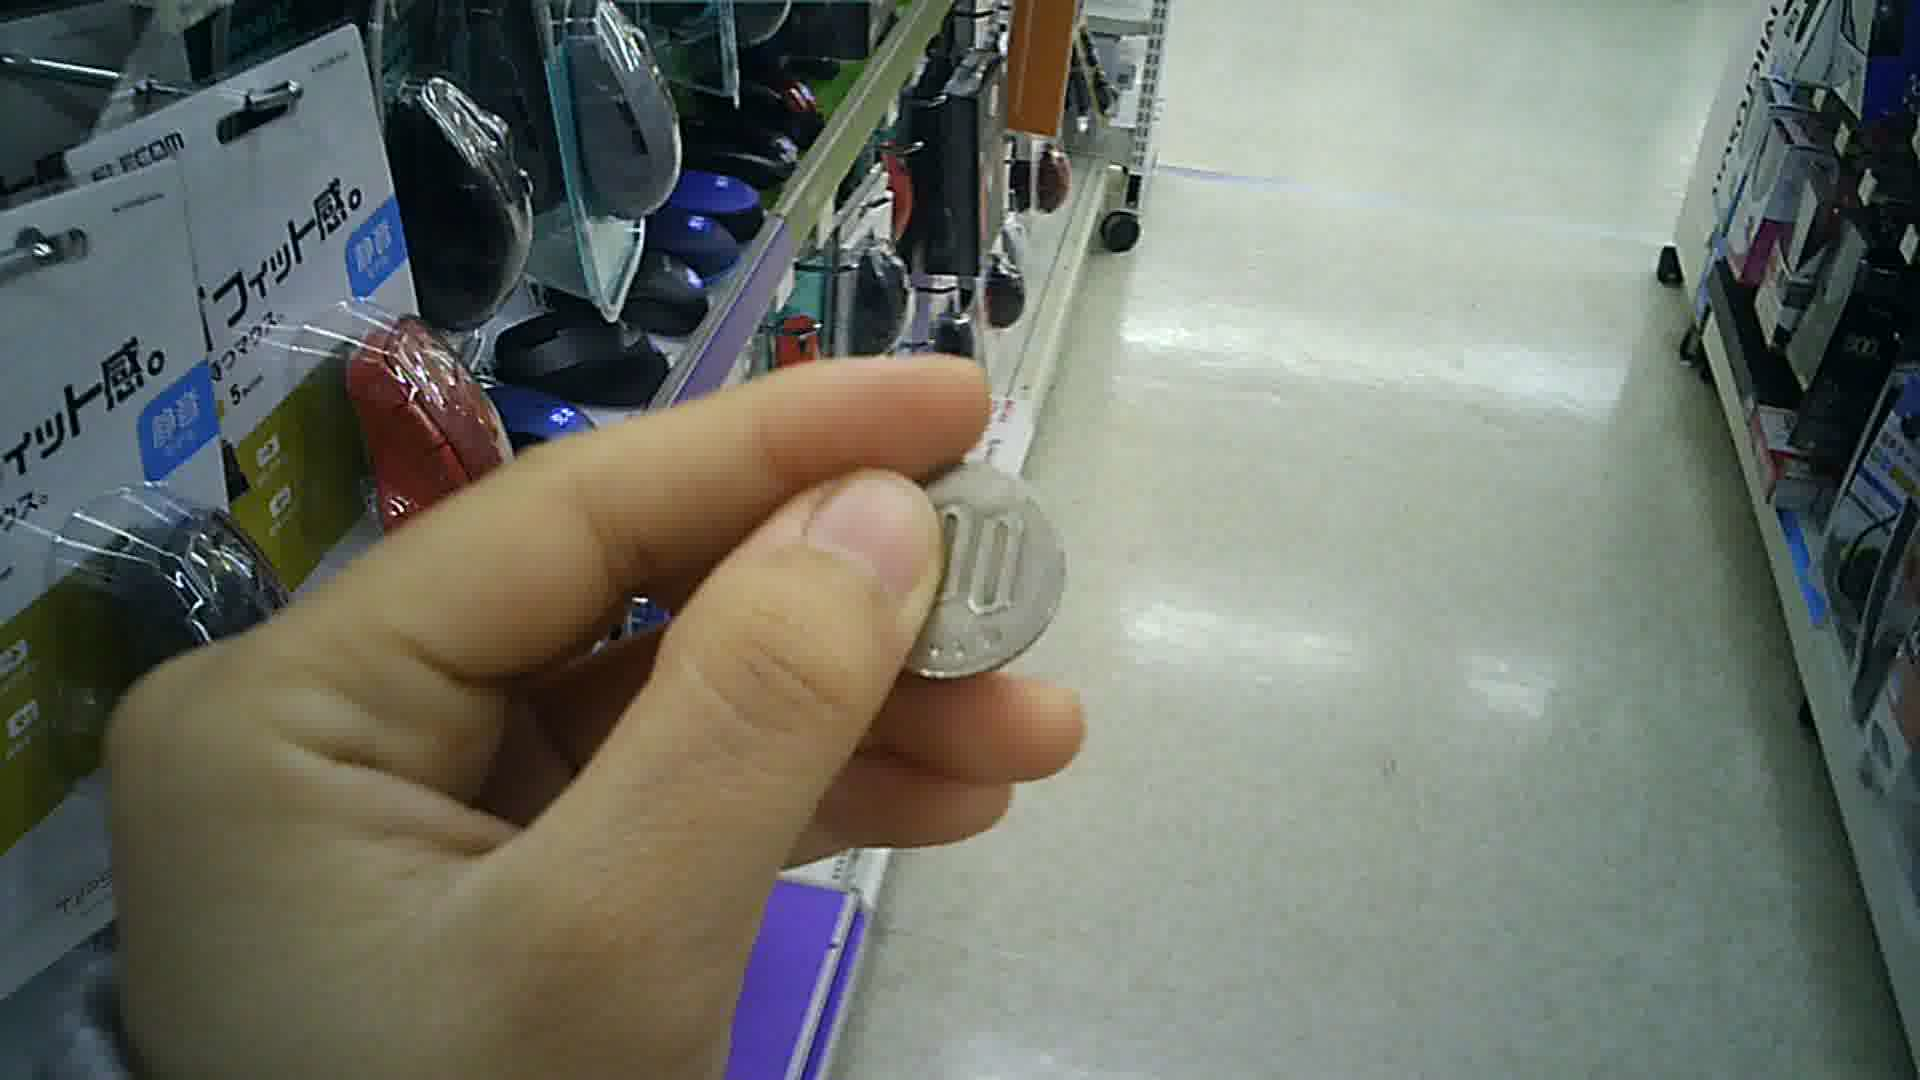100 Yen: (873, 443, 1068, 687)
